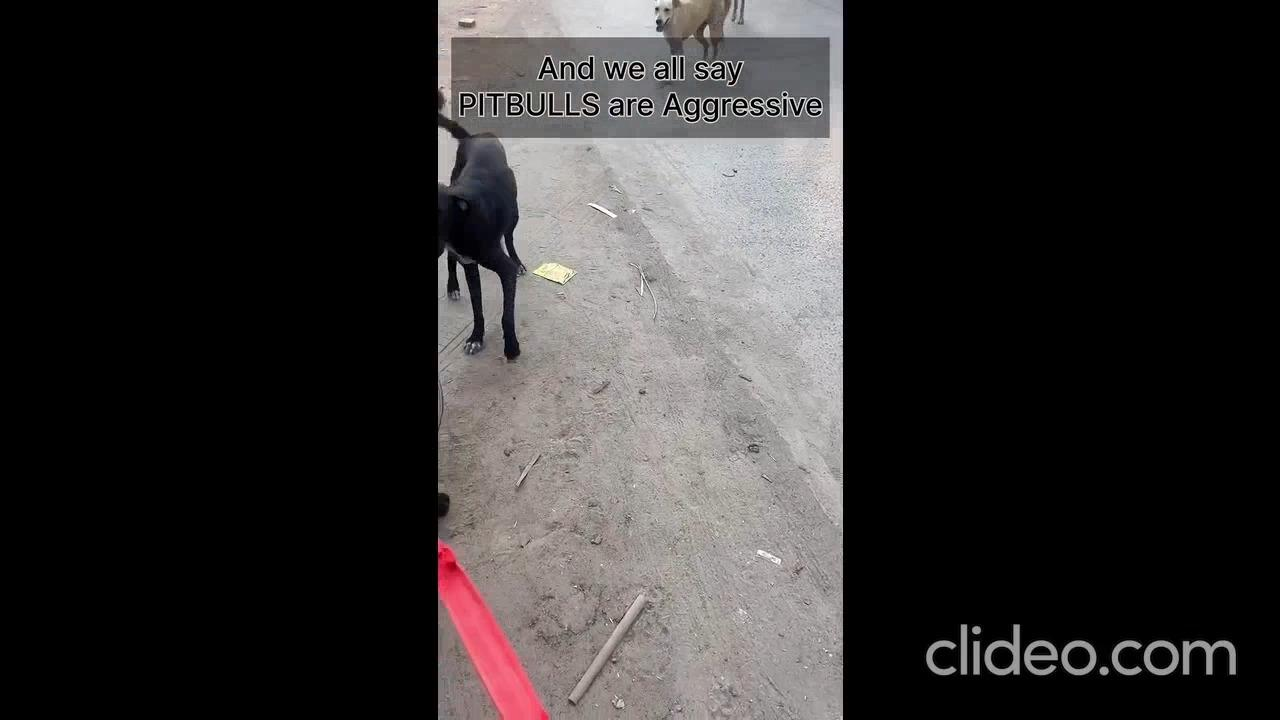dog: (436, 111, 546, 354), (649, 1, 750, 65)
